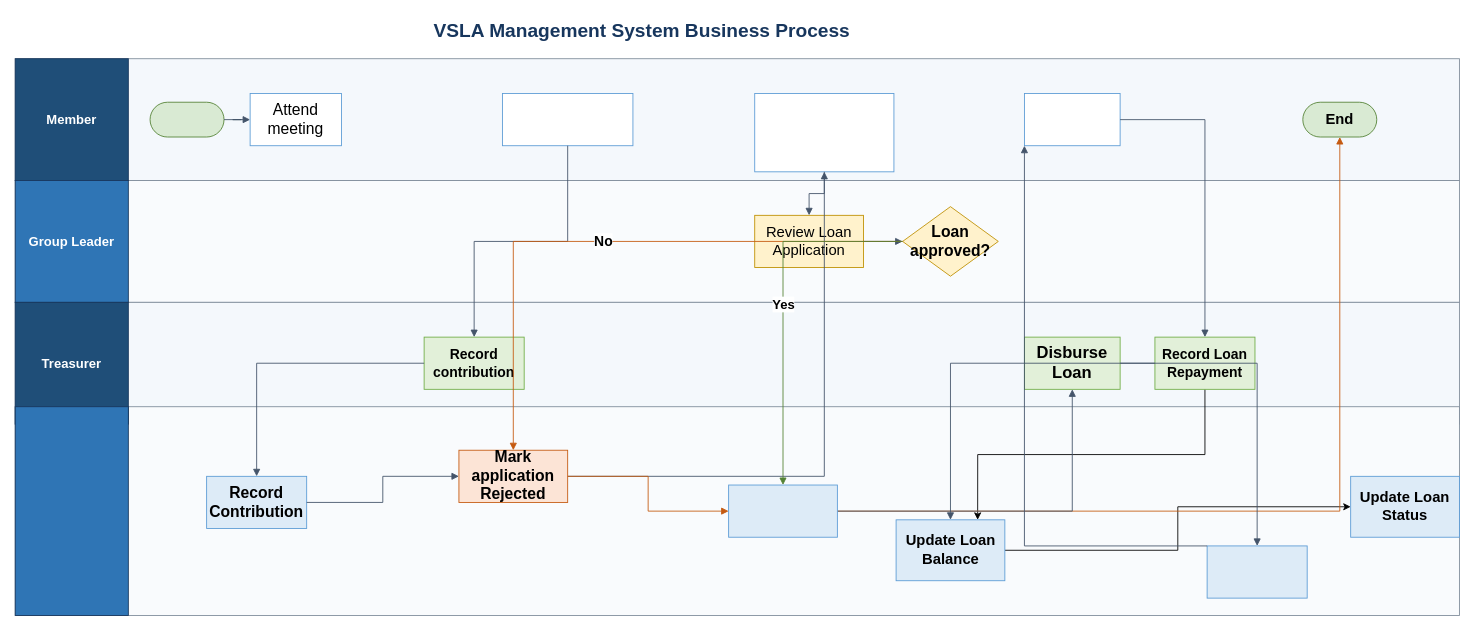
Some shapes in this 1475 by 631 pixel diagram are drawn without their labels. The box of each missing label's shape, as (x1, y1, x2, y2) in pixels:
Create Loan Record: (1206, 545, 1307, 598)
Make Loan Repayment: (1024, 93, 1120, 146)
Make Savings Contribution .: (502, 93, 633, 146)
Mark application Approved: (728, 484, 837, 537)
Oracle Database System .: (14, 406, 128, 616)
Start: (149, 101, 224, 137)
Submit loan application: (754, 93, 894, 172)
